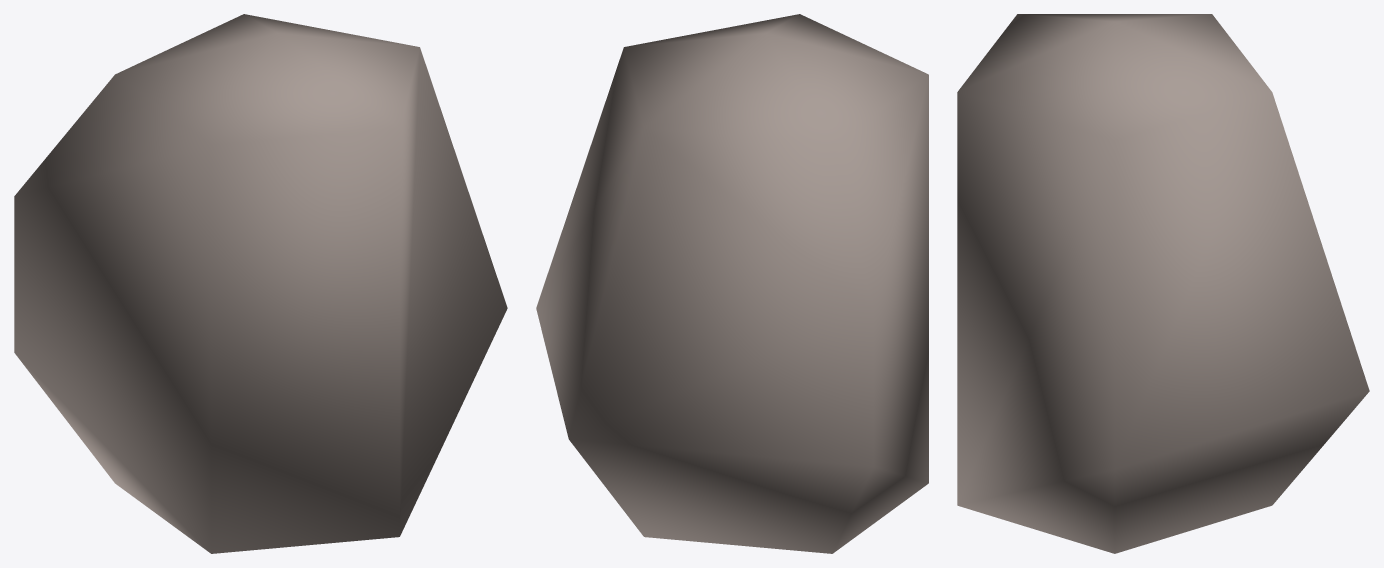
The model's file is SM_Pebble2.fbx.
3 views of the same model, side by side, from view 1: azimuth 30°, elevation 25°; view 2: azimuth 150°, elevation 25°; view 3: azimuth 270°, elevation 25° (orthographic).
Visible parts, largest first — view 1: Pebble2; view 2: Pebble2; view 3: Pebble2.
Part boxes in pixels (x1,y1,x2,y2): Pebble2: (14,14,507,553); Pebble2: (536,14,928,553); Pebble2: (957,14,1369,553).
Size of the model in its own units: 34.41 by 36.18 by 29.27.
